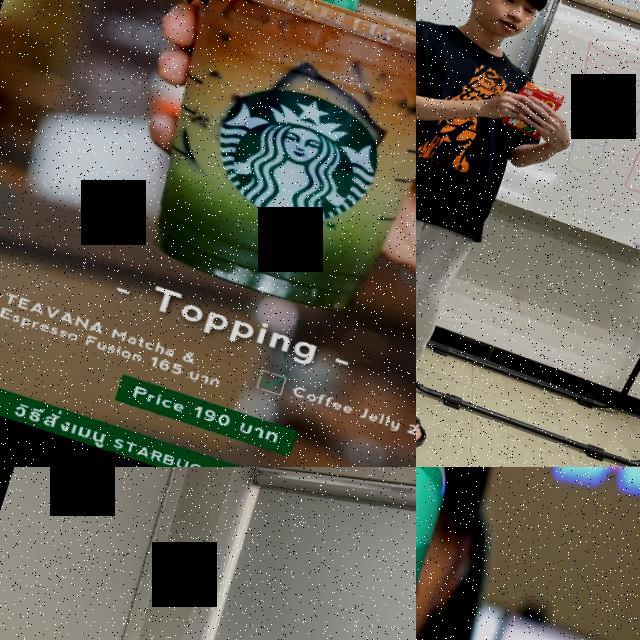can: (416, 467, 473, 640)
cup: (117, 0, 416, 344)
